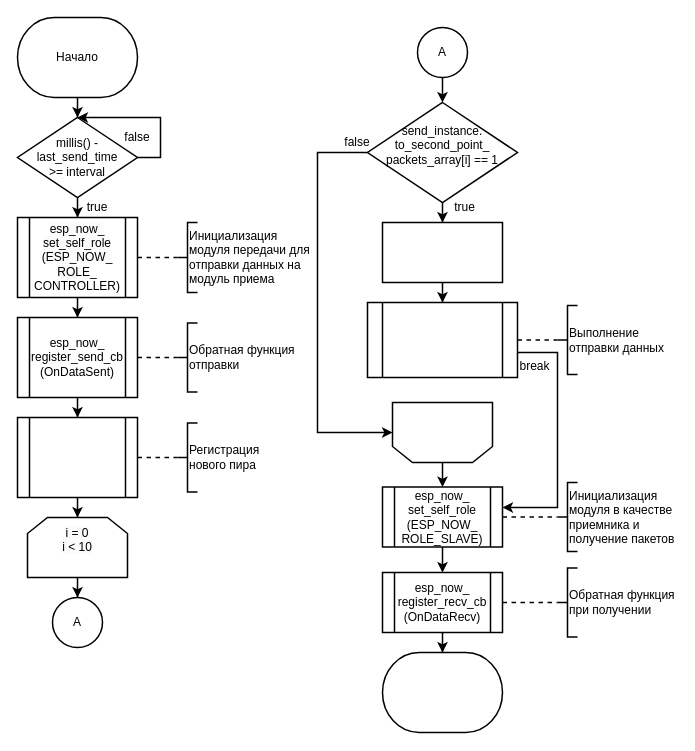
This 695x751 diagram has some shape labels left out. Here are the shapes that lost their labels. From the top down, the centre of each, then its label:
At (x=442, y=252): "send_instance. to_second_point_ packets_array[i] = 1".
At (x=442, y=339): "esp_now_send(0, (uint8_t *) &send_instance, sizeof (send_instance))".
At (x=442, y=432): "i++".
At (x=77, y=457): "esp_now_add_ peer(MAC_1, ESP_NOW_ ROLE_SLAVE, 0, NULL, 1)".
At (x=442, y=692): "Конец".
